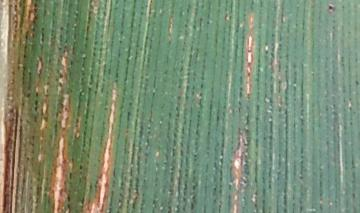tarspot: (325, 1, 336, 16)
